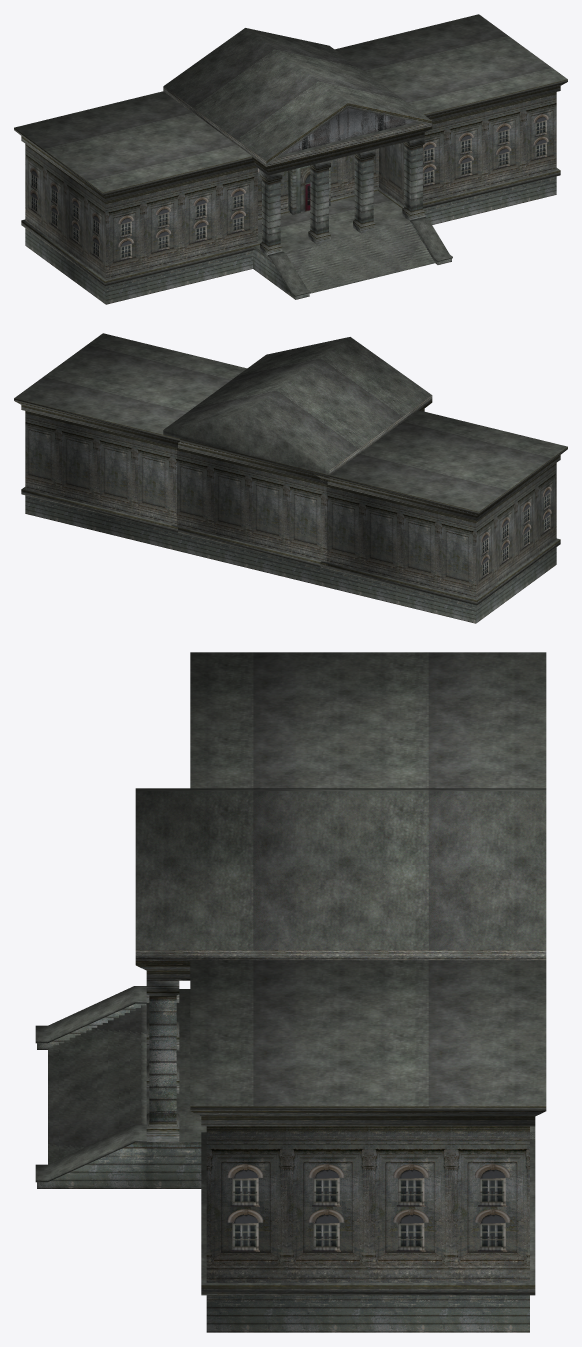
Rendered from GOVBuilding05.dae.
3 views of the same model, one above another, from view 1: azimuth 30°, elevation 25°; view 2: azimuth 150°, elevation 25°; view 3: azimuth 270°, elevation 25° (orthographic). The views are drawn at different scales.
Parts seen in each view (by area): view 1: TTR_SMGOVBuilding05; view 2: TTR_SMGOVBuilding05; view 3: TTR_SMGOVBuilding05.
Part boxes in pixels (left/top/right/bottom): TTR_SMGOVBuilding05: left=14, top=14, right=567, bottom=304; TTR_SMGOVBuilding05: left=14, top=333, right=567, bottom=623; TTR_SMGOVBuilding05: left=35, top=652, right=546, bottom=1332.
Bounding box in the file's own units: 94.08 × 44.76 × 30.96.
6 materials, 6 textured.
